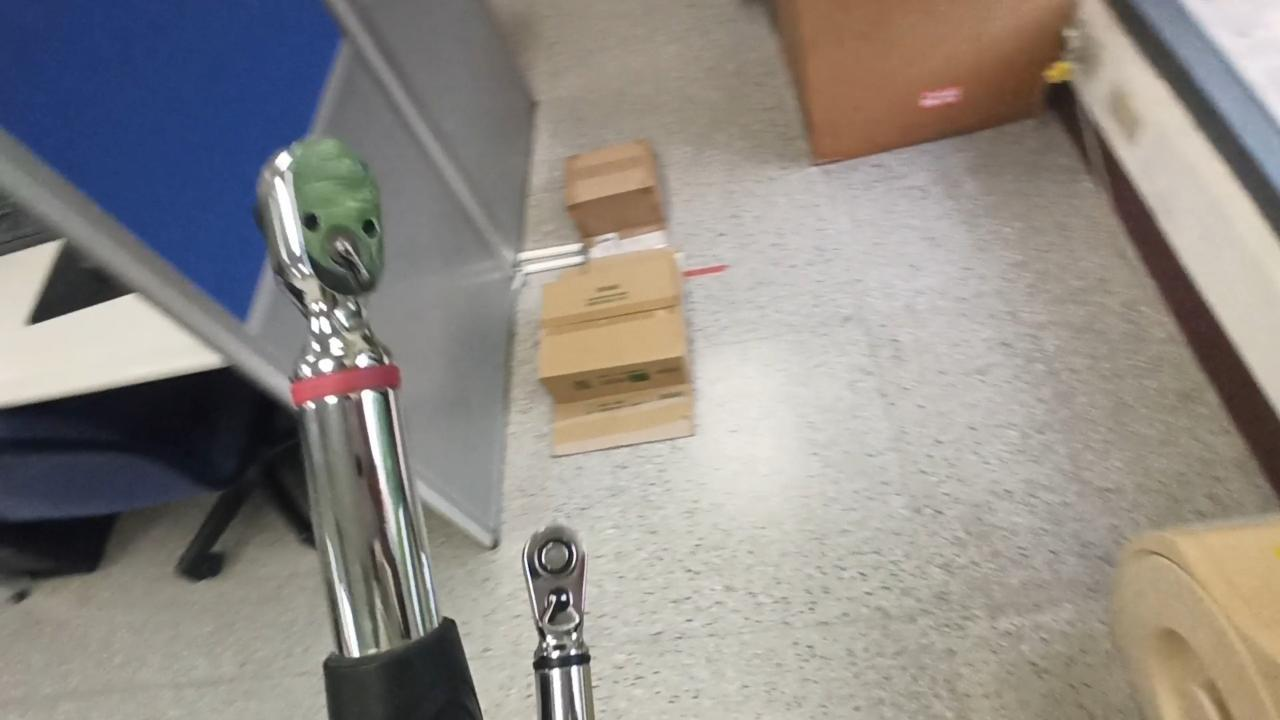Tool: (522, 526, 592, 654)
